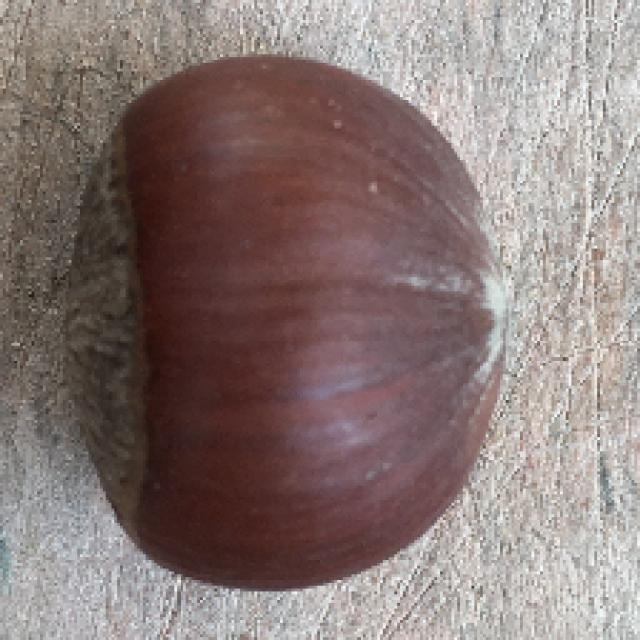qualityHazelnut: (62, 53, 516, 596)
